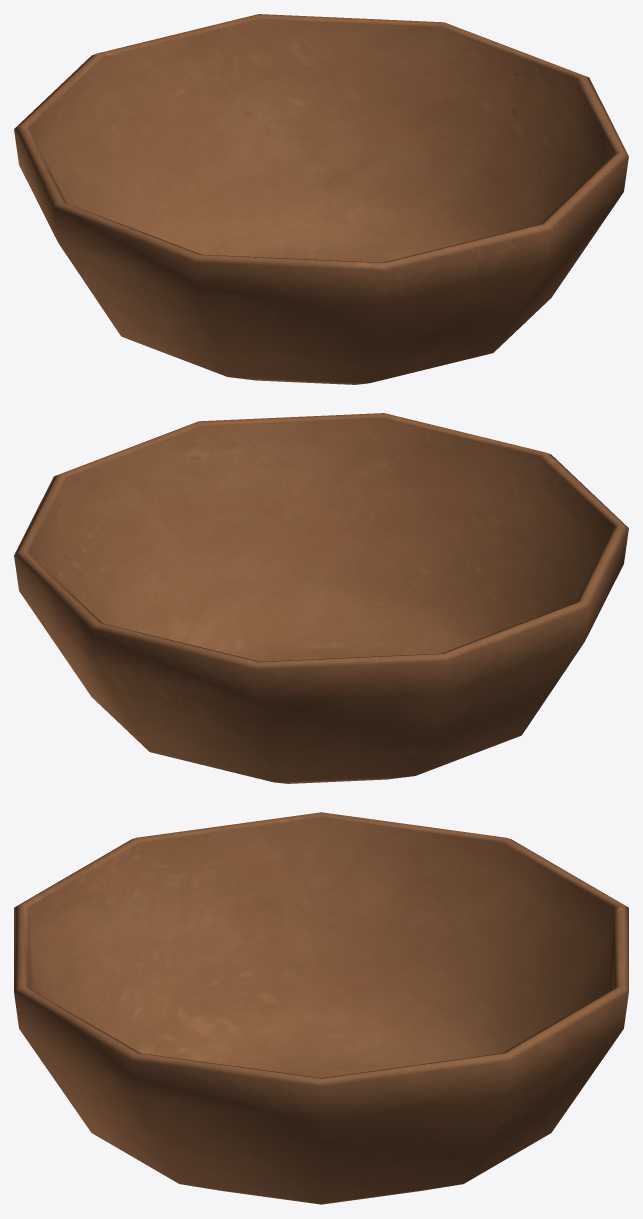
File: Bowl.fbx
The picture shows the model from 3 angles, top to bottom: view 1: azimuth 30°, elevation 25°; view 2: azimuth 150°, elevation 25°; view 3: azimuth 270°, elevation 25°; orthographic projection. The views are drawn at different scales.
Parts seen in each view (by area): view 1: Bowl; view 2: Bowl; view 3: Bowl.
Boxes of the visible parts, bbox=[...] form: Bowl: bbox=[14, 14, 628, 384]; Bowl: bbox=[14, 413, 628, 783]; Bowl: bbox=[14, 812, 628, 1204].
Size of the model in its own units: 12.92 by 4.16 by 12.28.
